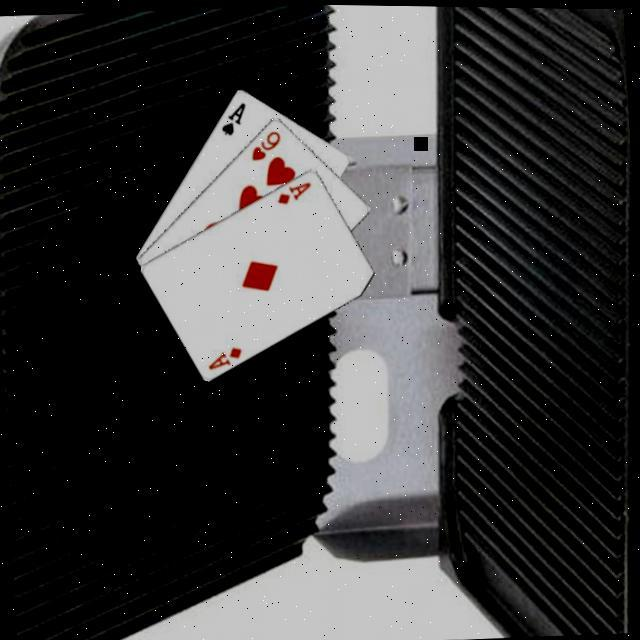9H: (245, 127, 283, 164)
AD: (272, 179, 313, 208), (203, 344, 244, 373)
AS: (214, 99, 248, 139)
